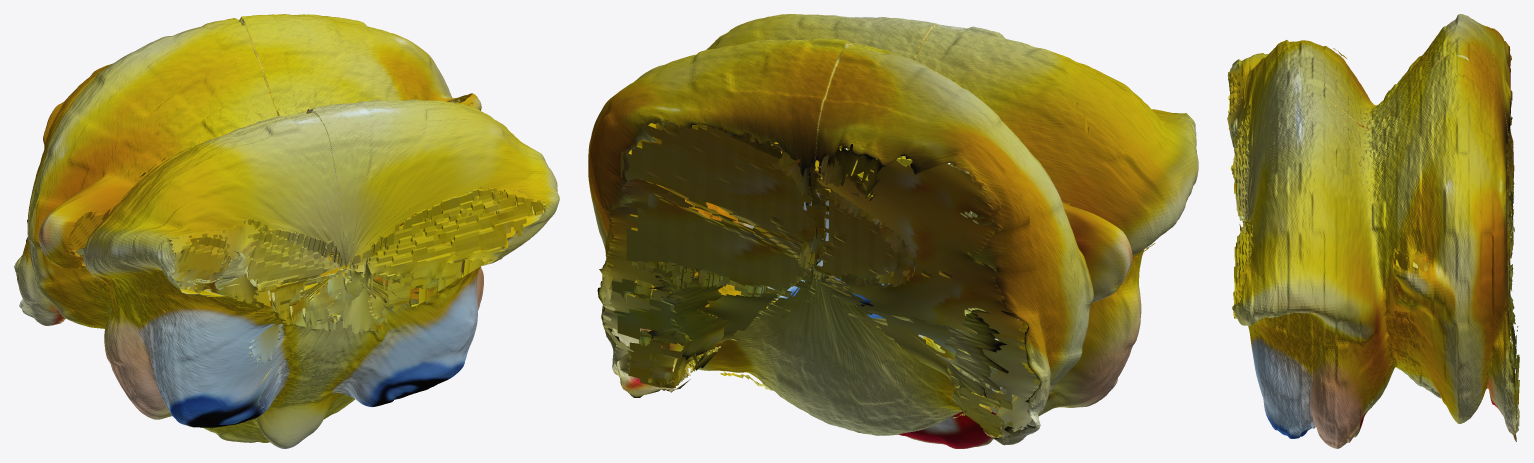
The model's file is snap12_mesh.glb.
3 renders of one model, left to right at view 1: azimuth 30°, elevation 25°; view 2: azimuth 150°, elevation 25°; view 3: azimuth 270°, elevation 25°, orthographic. The views are drawn at different scales.
Visible parts, largest first — view 1: ipn, fill; view 2: ipn, fill; view 3: ipn, fill.
Boxes of the visible parts, x1=… form: ipn: x1=14, y1=14, x2=559, y2=448; fill: x1=62, y1=99, x2=547, y2=411; ipn: x1=588, y1=14, x2=1198, y2=448; fill: x1=602, y1=101, x2=1175, y2=439; ipn: x1=1229, y1=14, x2=1516, y2=448; fill: x1=1227, y1=48, x2=1519, y2=434.
Bounding box in the file's own units: 1.99 × 1.62 × 1.14.
2 materials, 1 textured.
